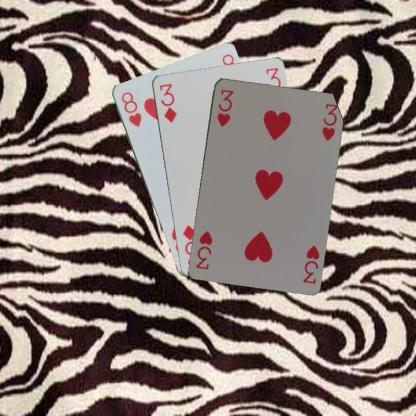3d: (157, 81, 178, 124)
3h: (300, 242, 321, 285), (214, 86, 235, 127)
8h: (118, 89, 143, 128)
